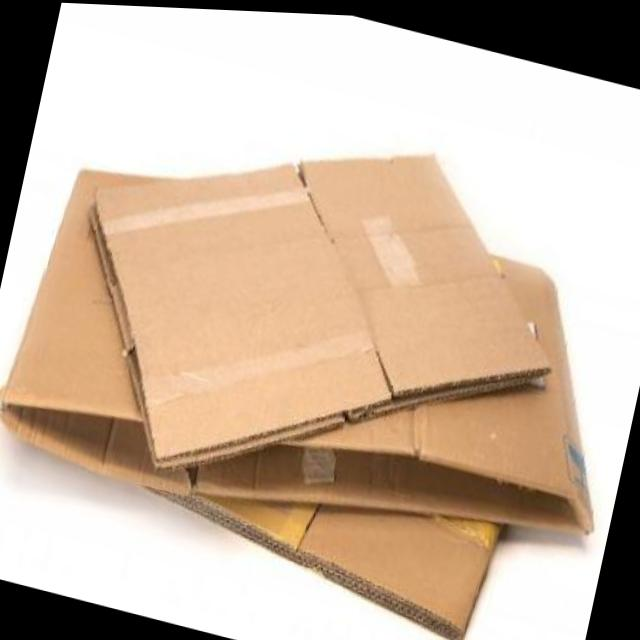box: (0, 134, 640, 640), (39, 58, 578, 558)
